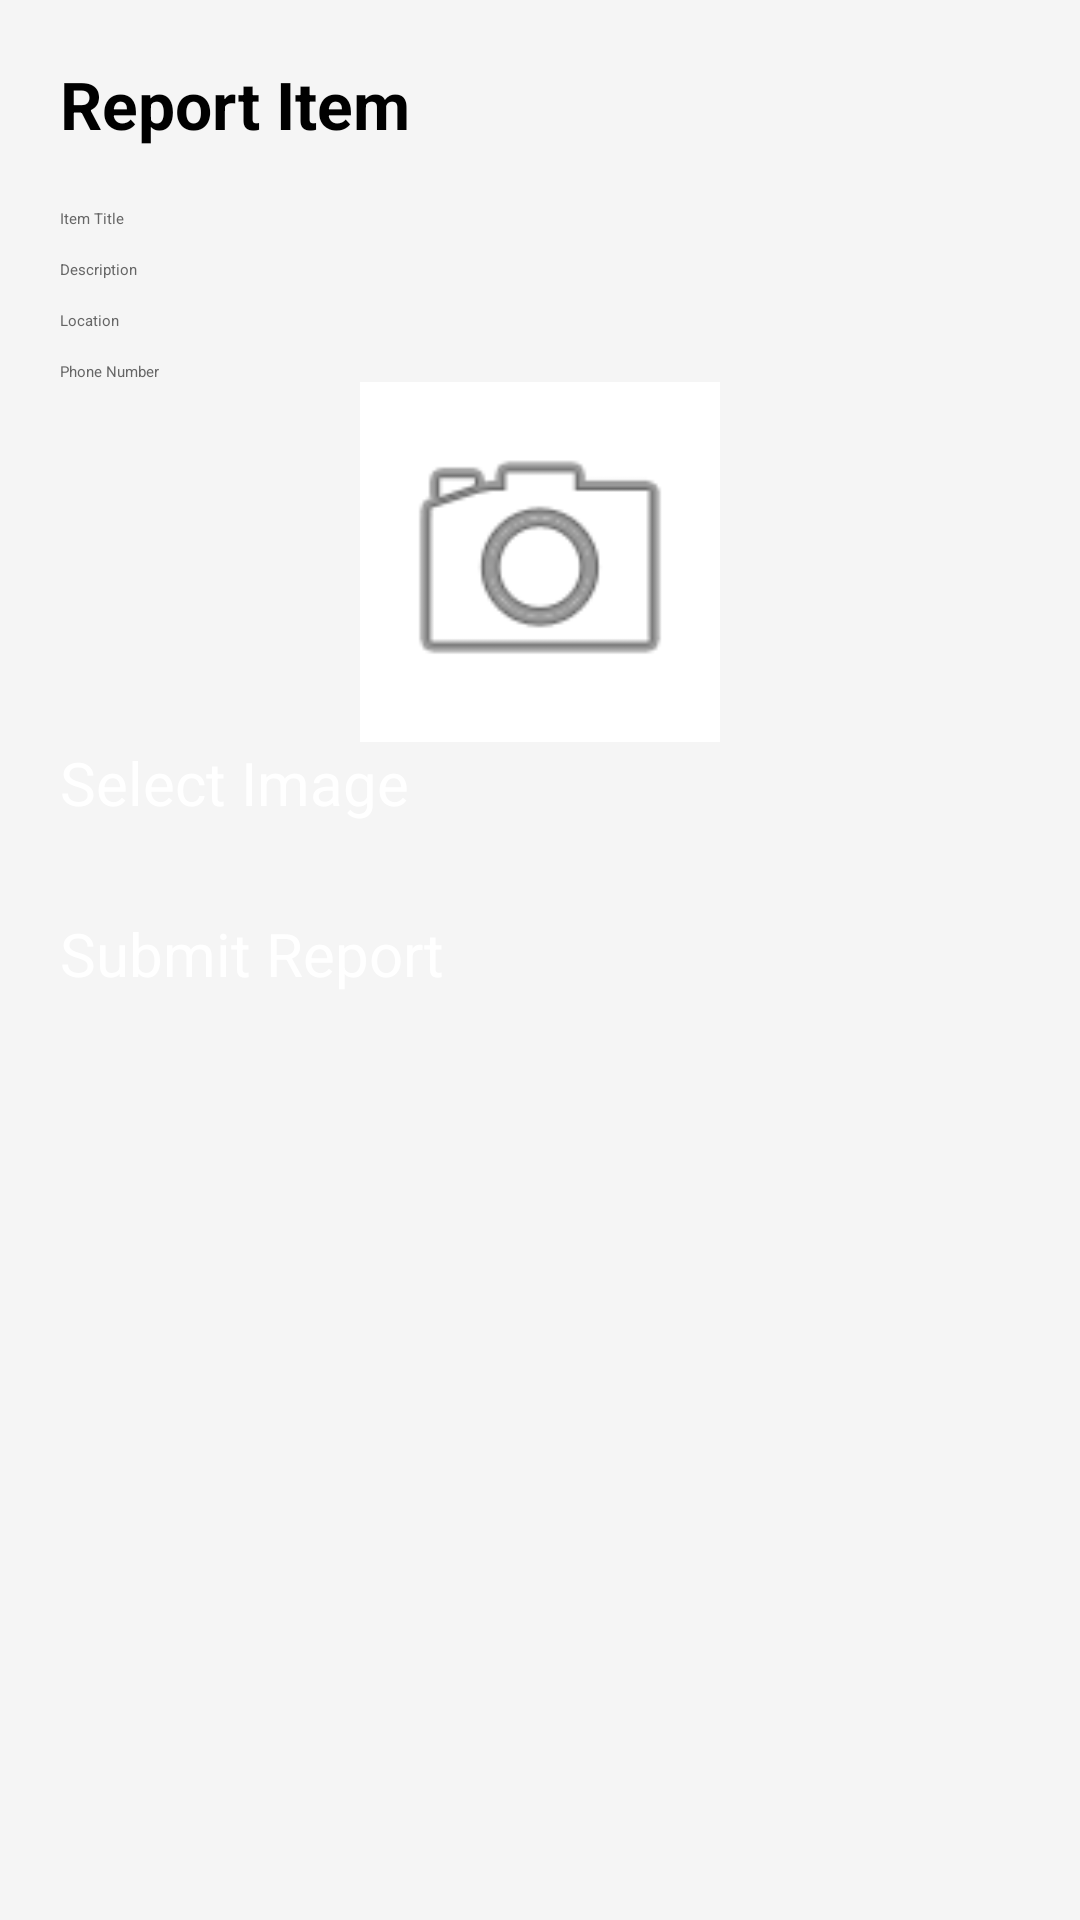

Screen size 1080px x 1920px. Icon name, then its box in pixels as (x1,y1,x2,y2):
camera: (360,382,720,742)
